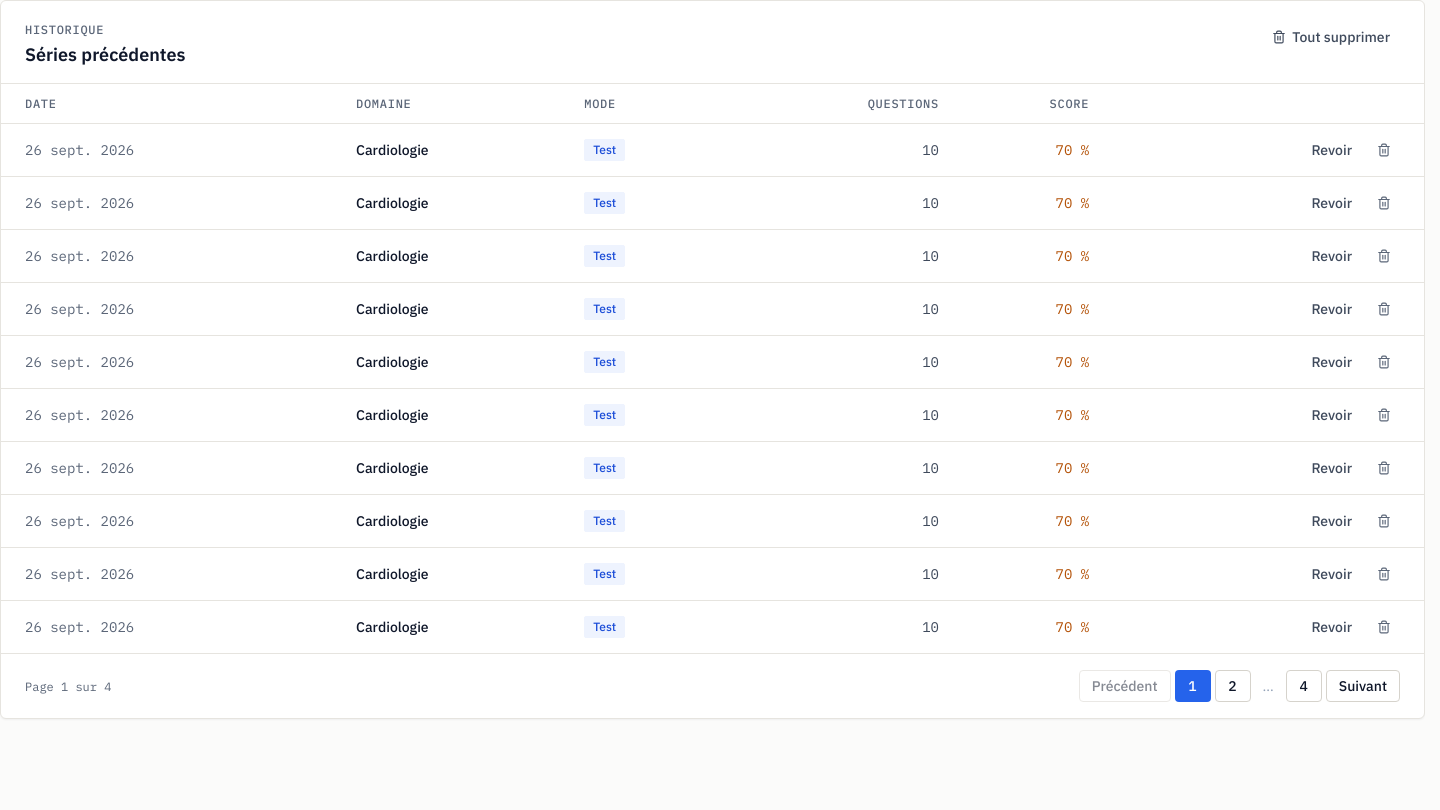
it: TrainingHistorySection › pagination numérotée au-delà de 10 lignes : « Page 1 sur 4 », la page 2 se charge en place
Check: the text "Page 1 sur 4" is shown, box [25,679,111,694]
Click the button "2" at (1233, 686), box [1215,670,1251,702]
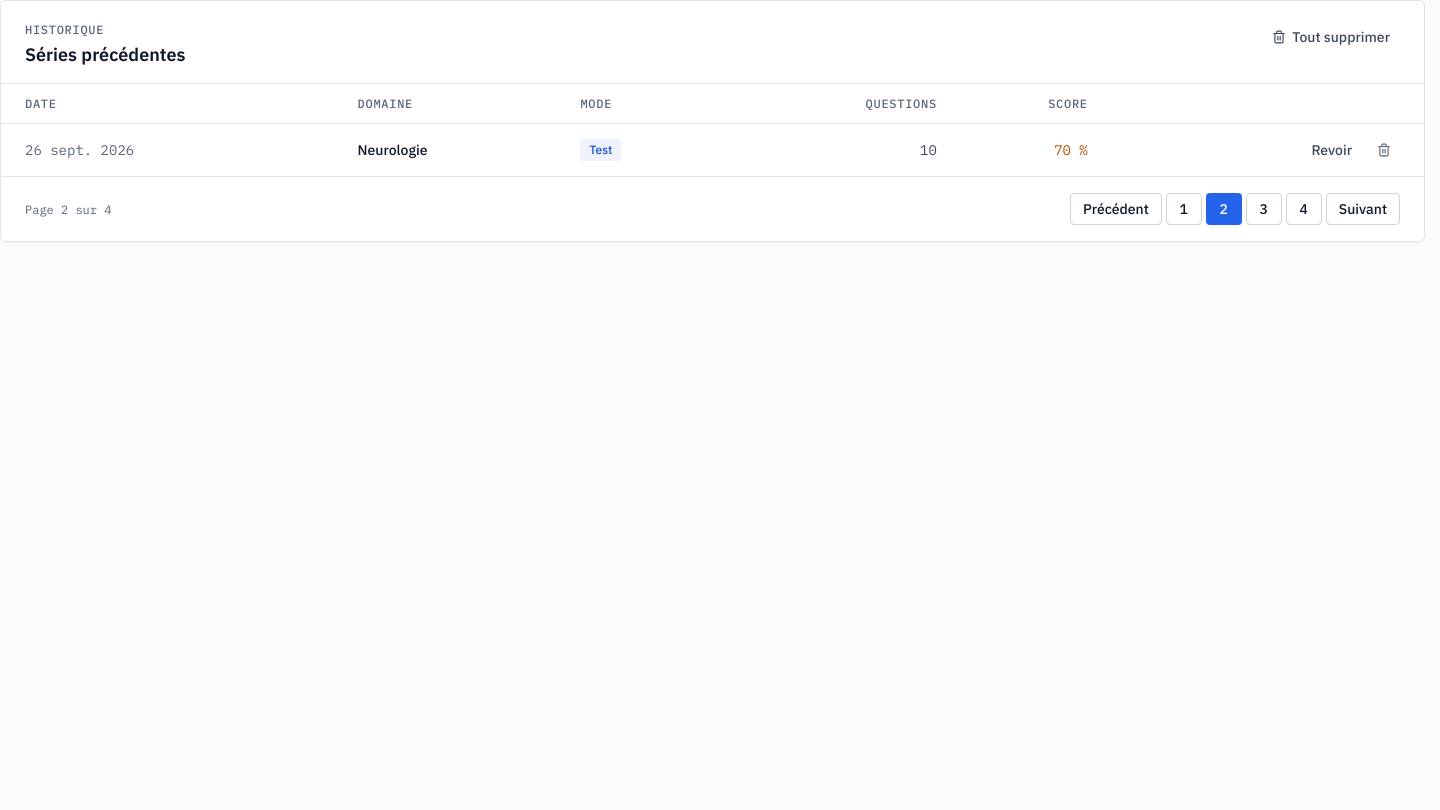
Check: the text "Page 2 sur 4" is shown, box [25,202,111,217]
Check: the text "Neurologie" is shown, box [346,124,568,176]
